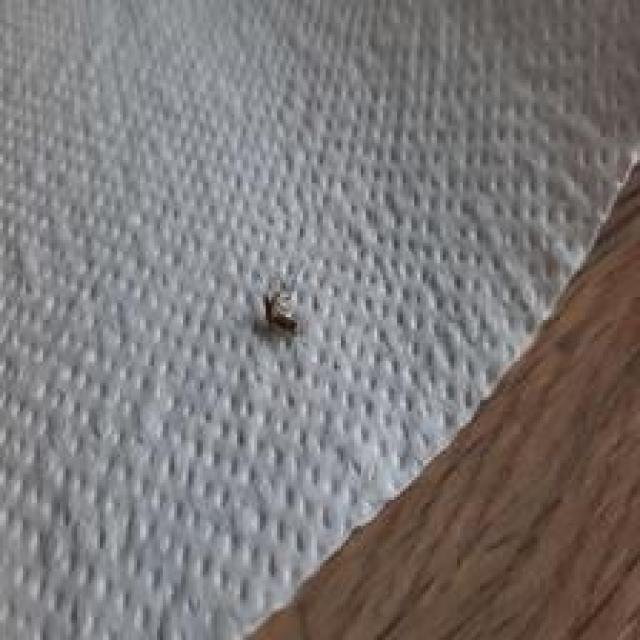Culex: (262, 289, 298, 334)
